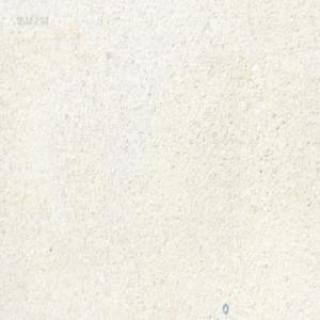Washertrack_idkeyframe: (220, 302, 228, 313)
